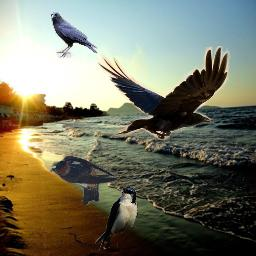Crow: (96, 46, 231, 140), (50, 12, 98, 58)
Swallow: (50, 155, 118, 205), (95, 187, 138, 251)
